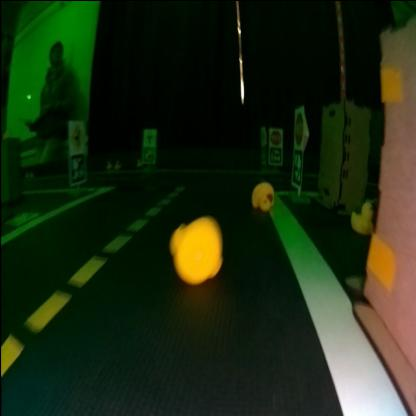Duckie: (170, 216, 222, 280), (352, 201, 376, 232), (255, 180, 273, 209), (106, 160, 110, 168), (136, 160, 141, 166), (116, 160, 119, 168)
Intersection sign: (70, 123, 86, 148), (144, 129, 156, 143)
QR code: (70, 152, 86, 182), (292, 150, 304, 184), (269, 148, 282, 162), (143, 147, 155, 161)
Stop sign: (294, 110, 303, 144), (270, 130, 282, 144)
